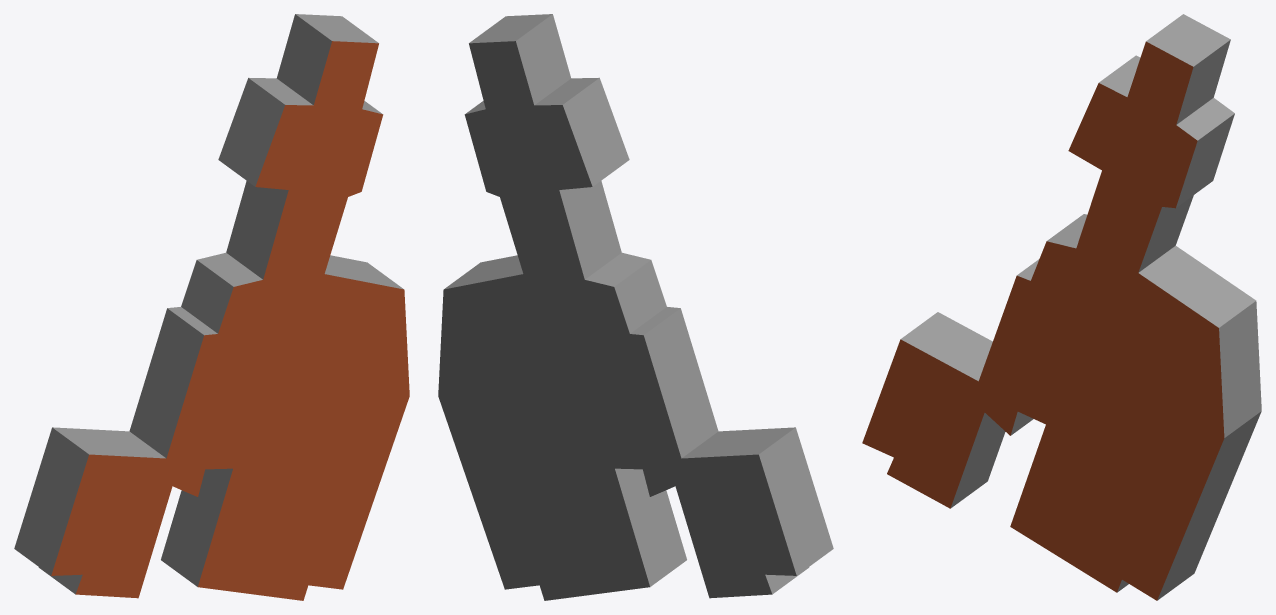
File: construction_4252_assumed_A_Casa_h6m.obj
The picture shows the model from 3 angles, left to right: view 1: azimuth 30°, elevation 25°; view 2: azimuth 150°, elevation 25°; view 3: azimuth 330°, elevation 25°; orthographic projection.
Visible parts, largest first — view 1: construction_4252_assumed_A_Casa; view 2: construction_4252_assumed_A_Casa; view 3: construction_4252_assumed_A_Casa.
Boxes of the visible parts, x1,y1,x2,y2 form: construction_4252_assumed_A_Casa: (14,14,409,600); construction_4252_assumed_A_Casa: (438,14,833,600); construction_4252_assumed_A_Casa: (862,14,1261,600).
Bounding box in the file's own units: 33.53 × 49.4 × 6.
